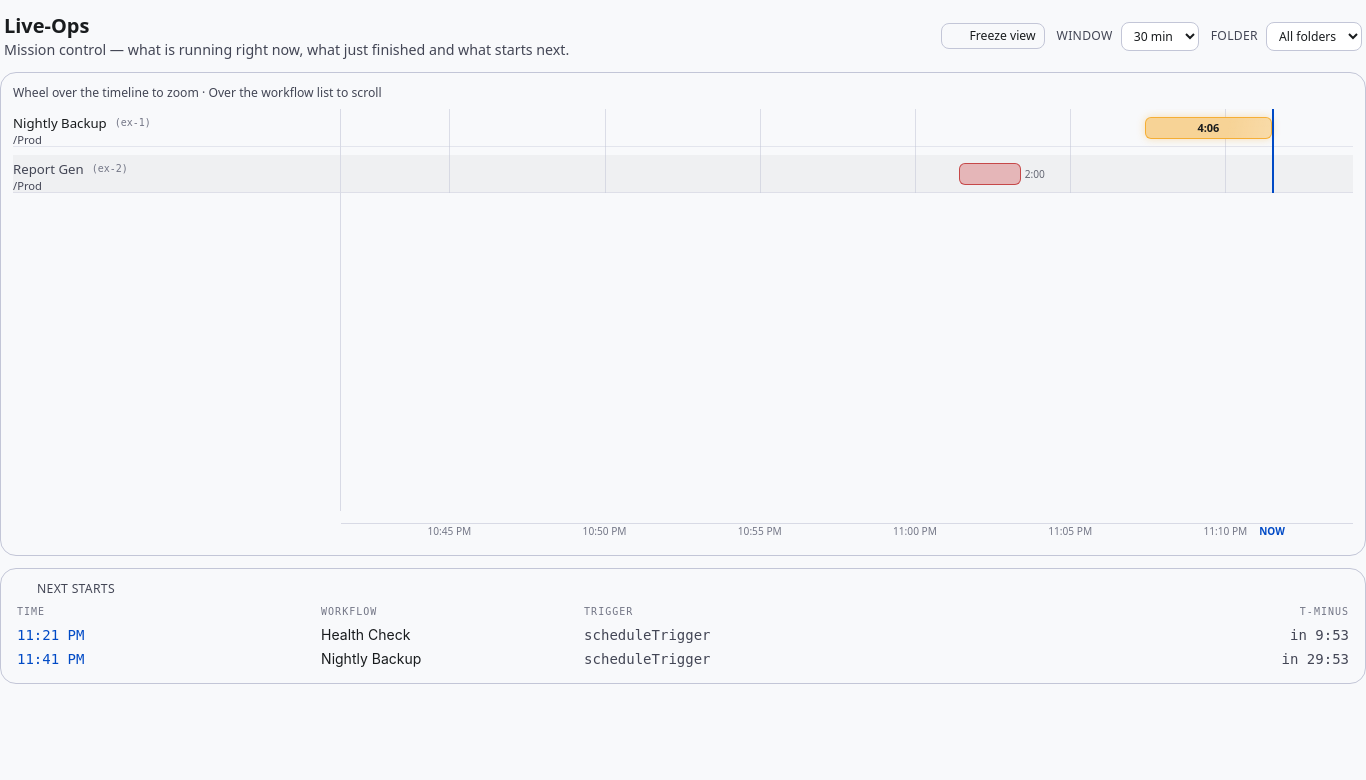
it: OperationsPage › freeze holds the VIEW but never the store — tombstones keep being written
Expected: the button titled "Nightly Backup · Running" is shown, [1145,117,1272,139]
Click the button "Freeze view" at [993, 36], box [942,23,1045,49]
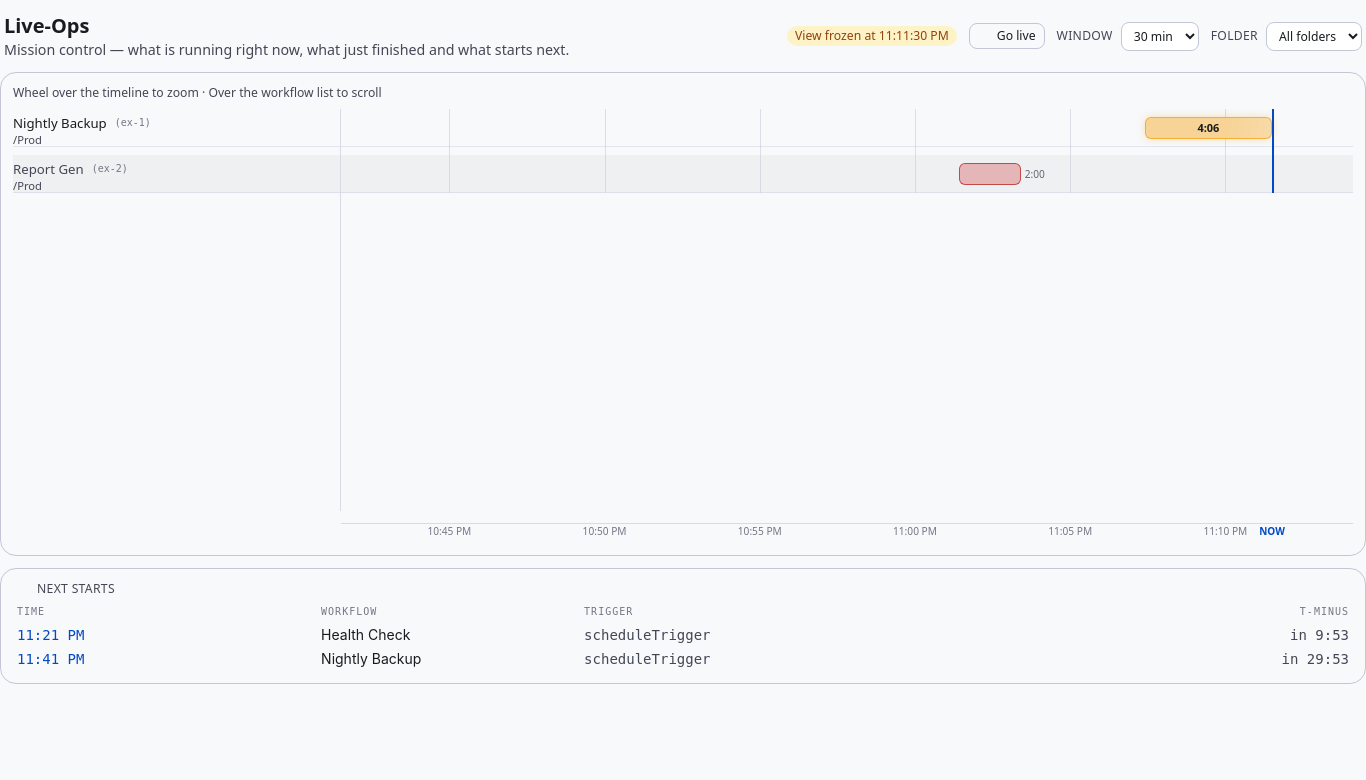
Expected: the button titled "Nightly Backup · Running" is shown, [1145,117,1272,139]
Click the button "Go live" at [1007, 36], box [969,23,1045,49]
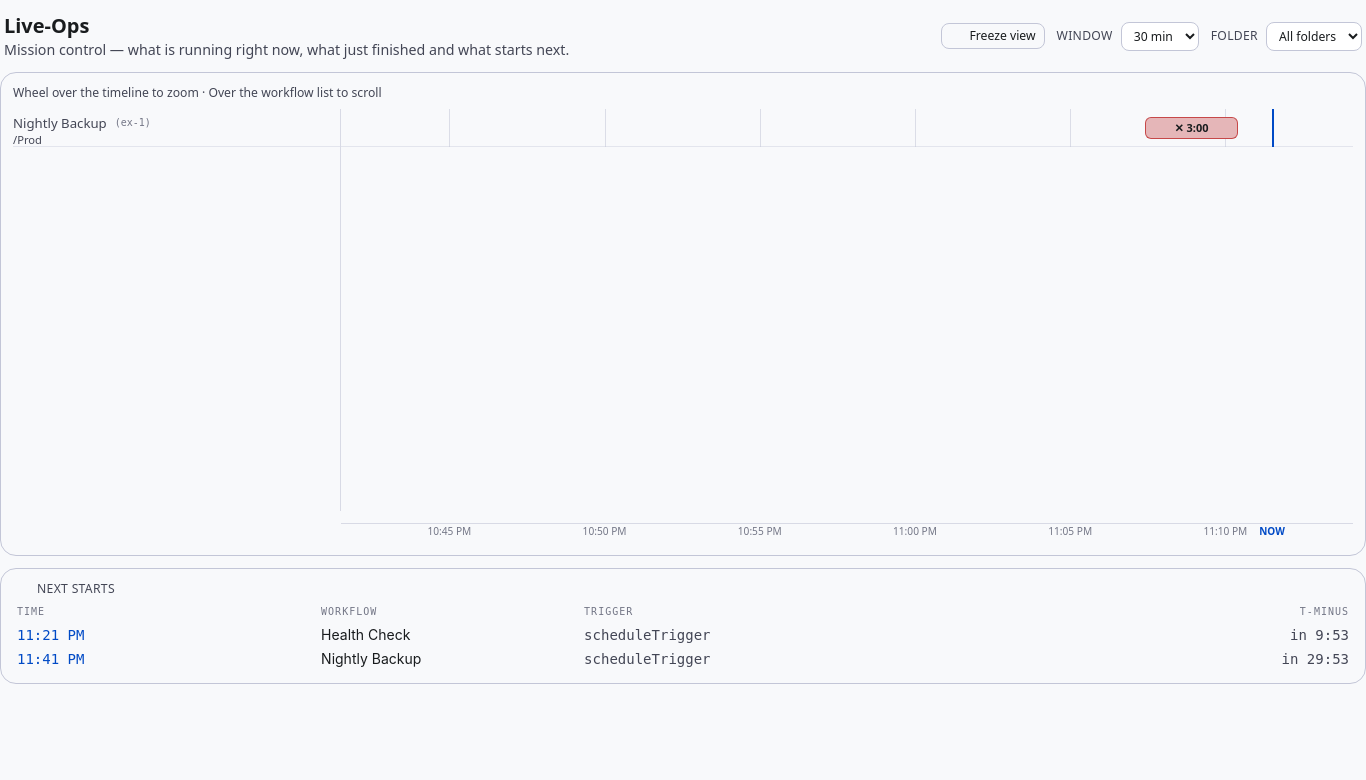
Result: the button titled "Nightly Backup · Failed" is shown at [1145,117,1238,139]
